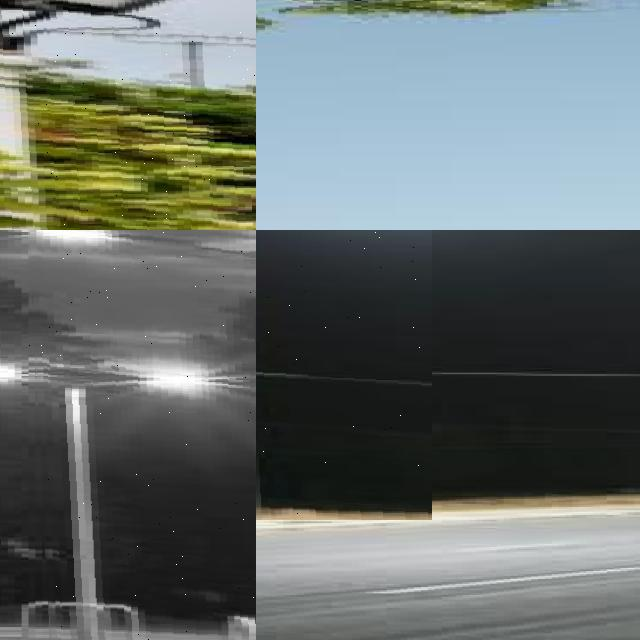street light: (28, 230, 256, 640), (0, 0, 256, 230), (0, 364, 200, 640), (256, 230, 432, 519)
